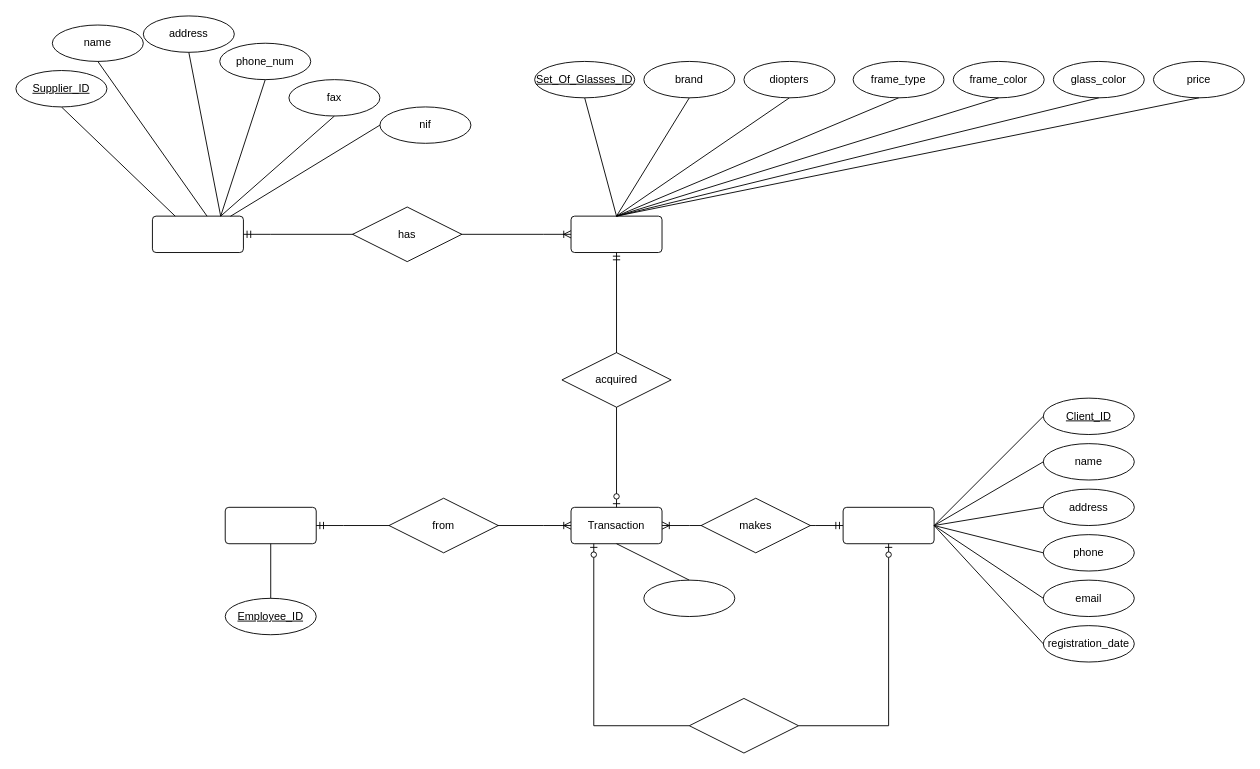
This 1260x769 diagram has some shape labels left out. Here are the shapes that lost their labels. From the top down, the centre of each, then its label:
pixel 197 234: Supplier
pixel 616 234: Set_Of_Glasses
pixel 270 525: Employee
pixel 888 525: Client
pixel 689 598: Transaction_ID
pixel 743 725: was_recommended
